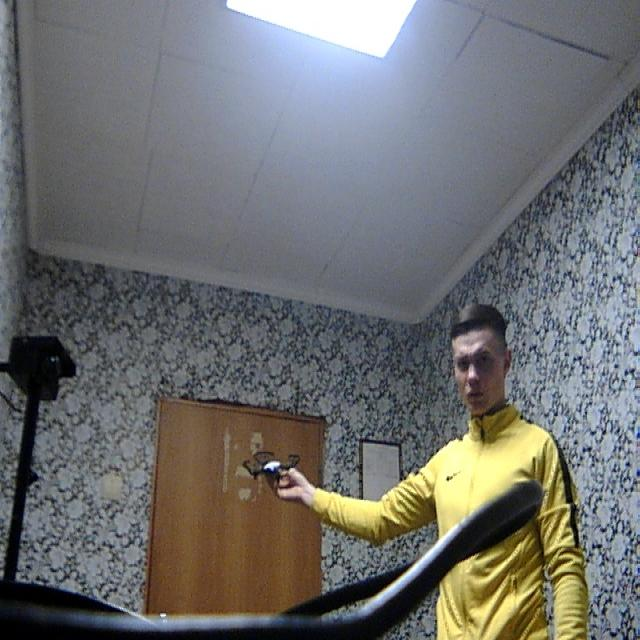drone: (239, 439, 312, 491)
